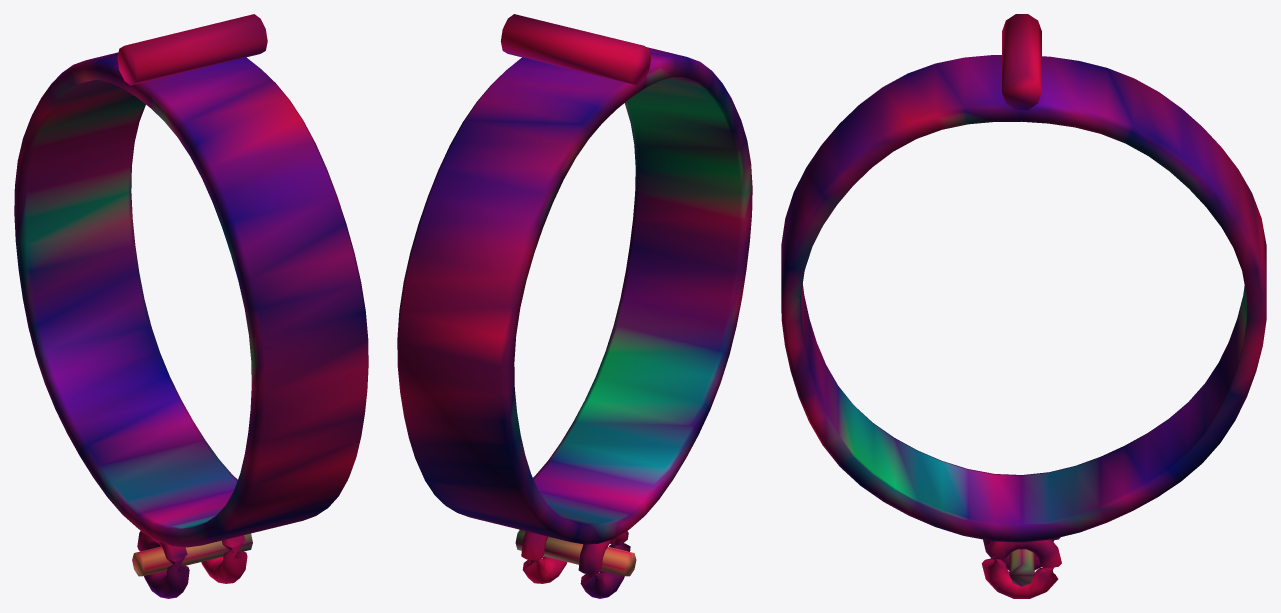
File: SM_ChainCuff.fbx
3 views of the same model, side by side, from view 1: azimuth 30°, elevation 25°; view 2: azimuth 150°, elevation 25°; view 3: azimuth 270°, elevation 25° (orthographic). The views are drawn at different scales.
Parts seen in each view (by area): view 1: SM_ChainCuff; view 2: SM_ChainCuff; view 3: SM_ChainCuff.
Part boxes in pixels (x1,y1,x2,y2): SM_ChainCuff: (14, 14, 368, 598); SM_ChainCuff: (397, 14, 752, 598); SM_ChainCuff: (781, 14, 1266, 598).
Size of the model in its own units: 2561 by 770 by 3150.
